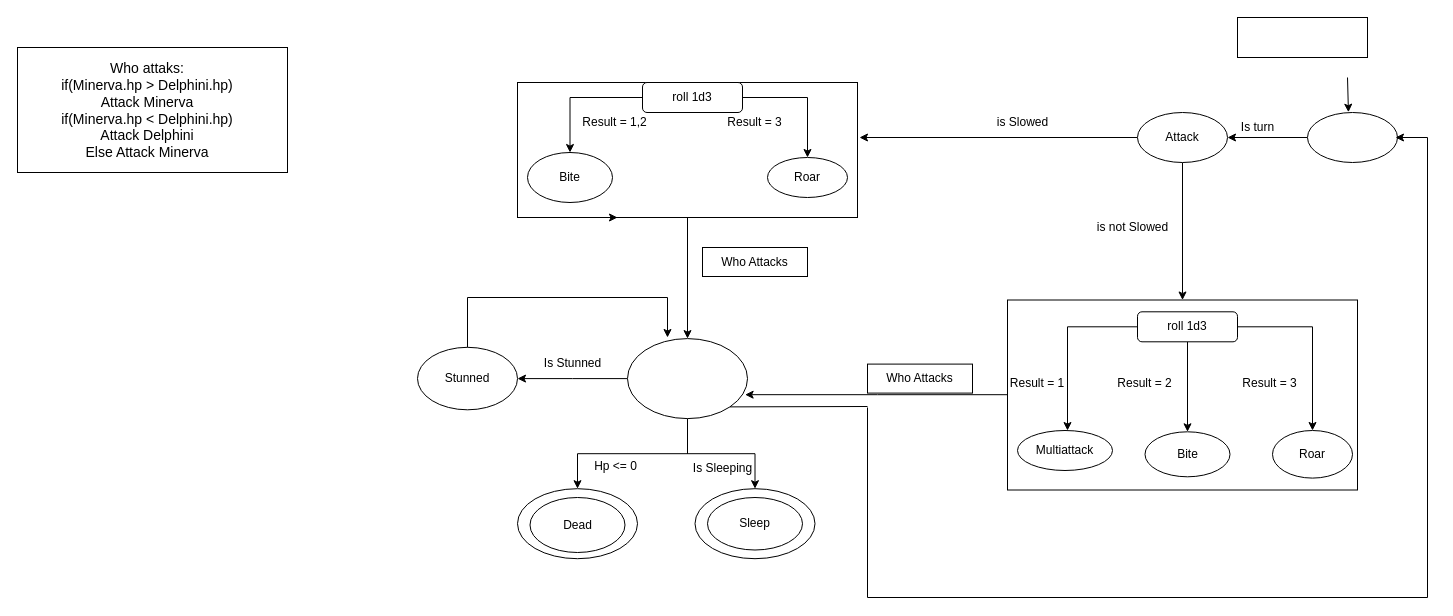
Image size: 1453x616. Some labels were removed from this diagram. The shapes that lost their labels are listed below. From the top down, each one's centre as x and y in pixels, then its label:
At (1302,37): "Combat mode".
At (1352,137): "Waiting".
At (687,378): "Enemy turn".
